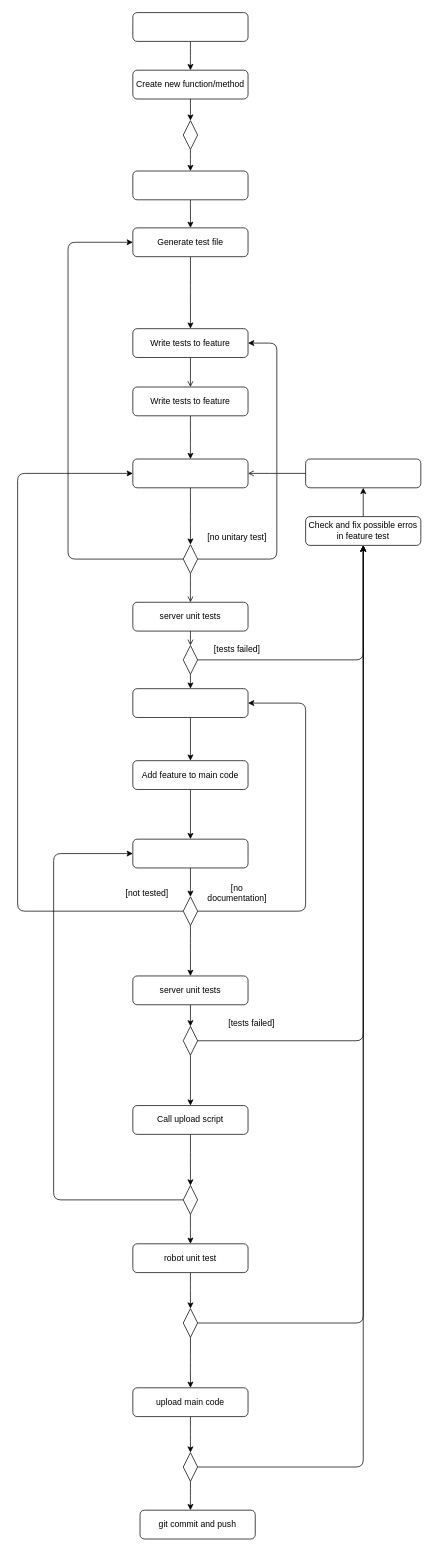
Some shapes in this 433 by 1552 pixel diagram are drawn without their labels. The box of each missing label's shape, as (x1, y1, x2, y2) in pixels:
Call add_feature_script: (132, 838, 248, 868)
Call create_test_file script: (132, 170, 248, 200)
Call test_feature_script: (132, 458, 248, 488)
Check and fix possible erros in the feature code: (305, 458, 421, 488)
Check issues: (132, 12, 248, 41)
Write dox documentation: (132, 688, 248, 717)
